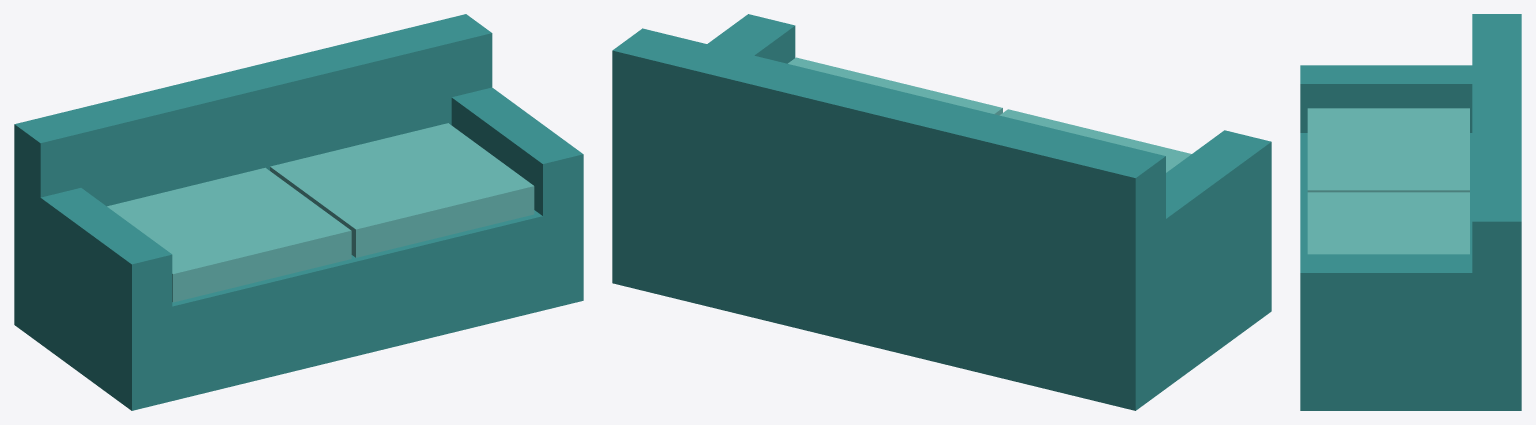
File: sofa.glb
The picture shows the model from 3 angles, left to right: view 1: azimuth 30°, elevation 25°; view 2: azimuth 150°, elevation 25°; view 3: azimuth 270°, elevation 25°; orthographic projection. The views are drawn at different scales.
Visible parts, largest first — view 1: Base, Back, Cushion_right, Cushion_left, Arm_left, Arm_right; view 2: Back, Base, Arm_left, Arm_right, Cushion_right, Cushion_left; view 3: Base, Back, Arm_right, Cushion_left, Cushion_right, Arm_left.
Boxes of the visible parts, x1=… form: Base: x1=14, y1=206, x2=583, y2=410; Back: x1=14, y1=14, x2=492, y2=248; Cushion_right: x1=270, y1=123, x2=534, y2=257; Cushion_left: x1=107, y1=167, x2=351, y2=302; Arm_left: x1=14, y1=178, x2=172, y2=316; Arm_right: x1=451, y1=87, x2=583, y2=215; Back: x1=612, y1=28, x2=1165, y2=301; Base: x1=612, y1=174, x2=1271, y2=410; Arm_left: x1=1088, y1=130, x2=1271, y2=300; Arm_right: x1=612, y1=14, x2=795, y2=184; Cushion_right: x1=788, y1=57, x2=1002, y2=115; Cushion_left: x1=999, y1=109, x2=1191, y2=172; Base: x1=1300, y1=133, x2=1521, y2=410; Back: x1=1472, y1=14, x2=1521, y2=321; Arm_right: x1=1300, y1=254, x2=1521, y2=321; Cushion_left: x1=1307, y1=108, x2=1469, y2=192; Cushion_right: x1=1307, y1=192, x2=1469, y2=254; Arm_left: x1=1300, y1=65, x2=1472, y2=132.
Bounding box in the file's own units: 2 × 0.85 × 0.9.
